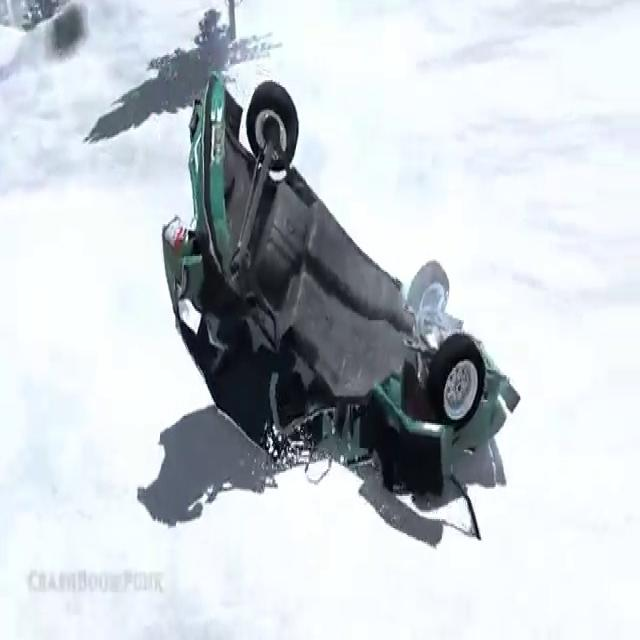severe: (153, 61, 508, 514)
